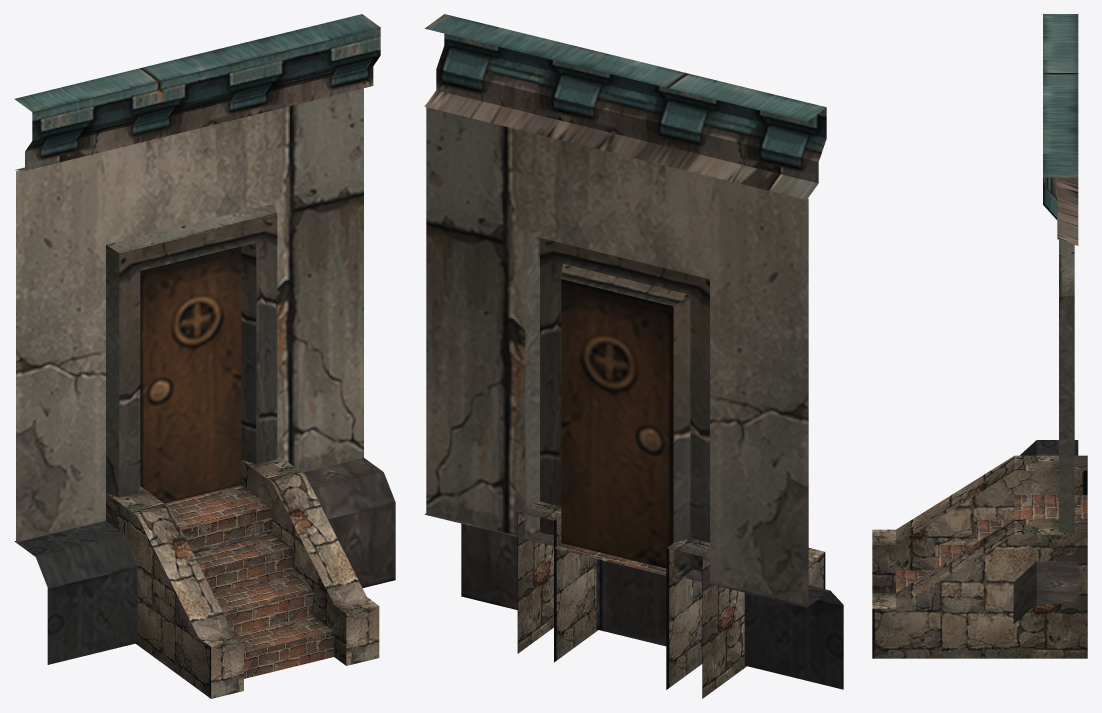
Rendered from wall_concrete_9.fbx.
3 renders of one model, left to right at view 1: azimuth 30°, elevation 25°; view 2: azimuth 150°, elevation 25°; view 3: azimuth 270°, elevation 25°, orthographic. The views are drawn at different scales.
Parts seen in each view (by area): view 1: wall_concrete_9; view 2: wall_concrete_9; view 3: wall_concrete_9.
Boxes of the visible parts, box(x1,y1,x2,y2) form: wall_concrete_9: box(14, 14, 395, 698); wall_concrete_9: box(424, 14, 843, 698); wall_concrete_9: box(872, 14, 1087, 658).
Size of the model in its own units: 3 by 4.48 by 1.67.
